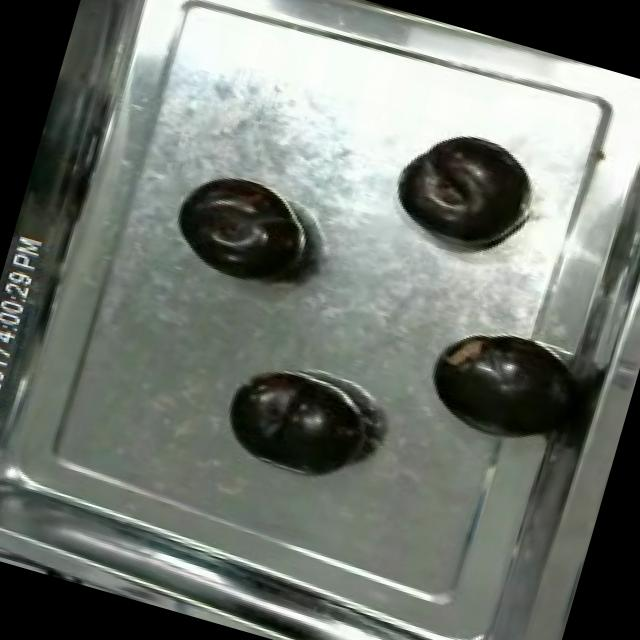Fruit: (410, 311, 584, 462), (381, 118, 543, 262), (210, 356, 378, 494), (160, 160, 322, 298)
